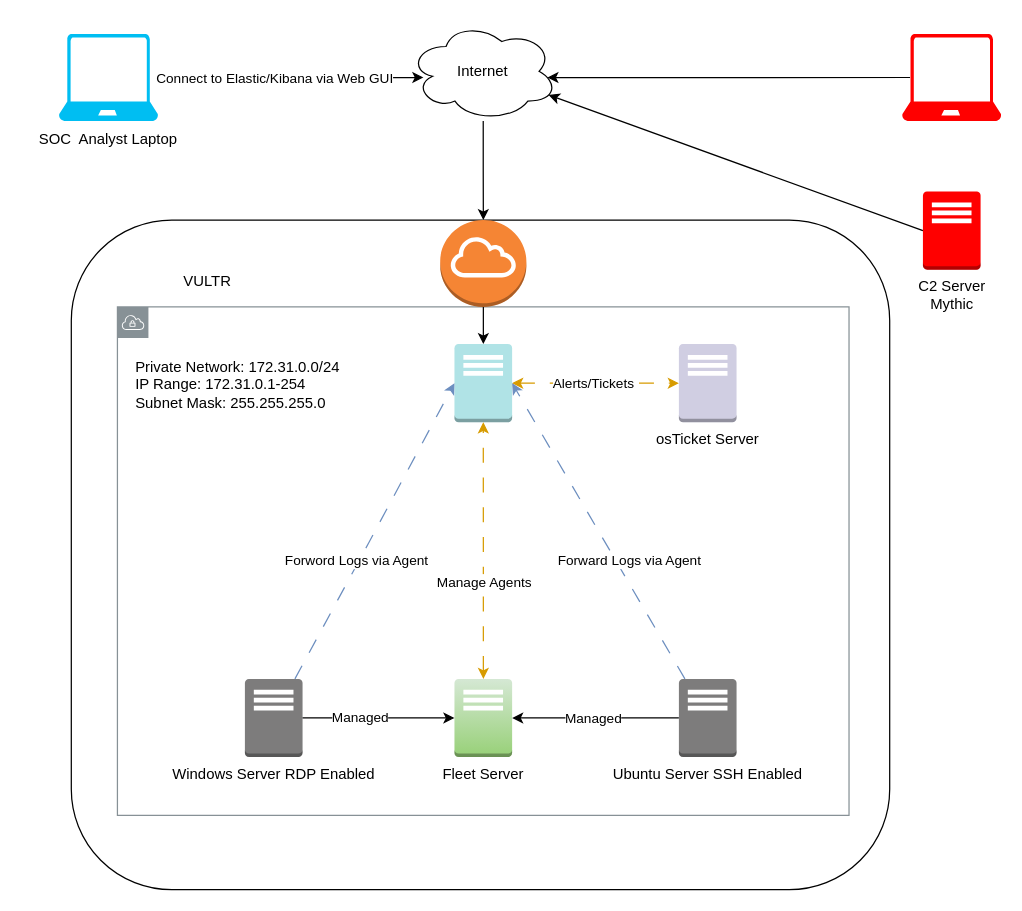
This 1022x911 diagram has some shape labels left out. Here are the shapes that lost their labels. From the top down, the box of each, then its label:
(901, 33, 1001, 120): Attack Laptop Kali Linux
(453, 343, 512, 422): Elastic & Kibana
(116, 306, 849, 815): VPC
